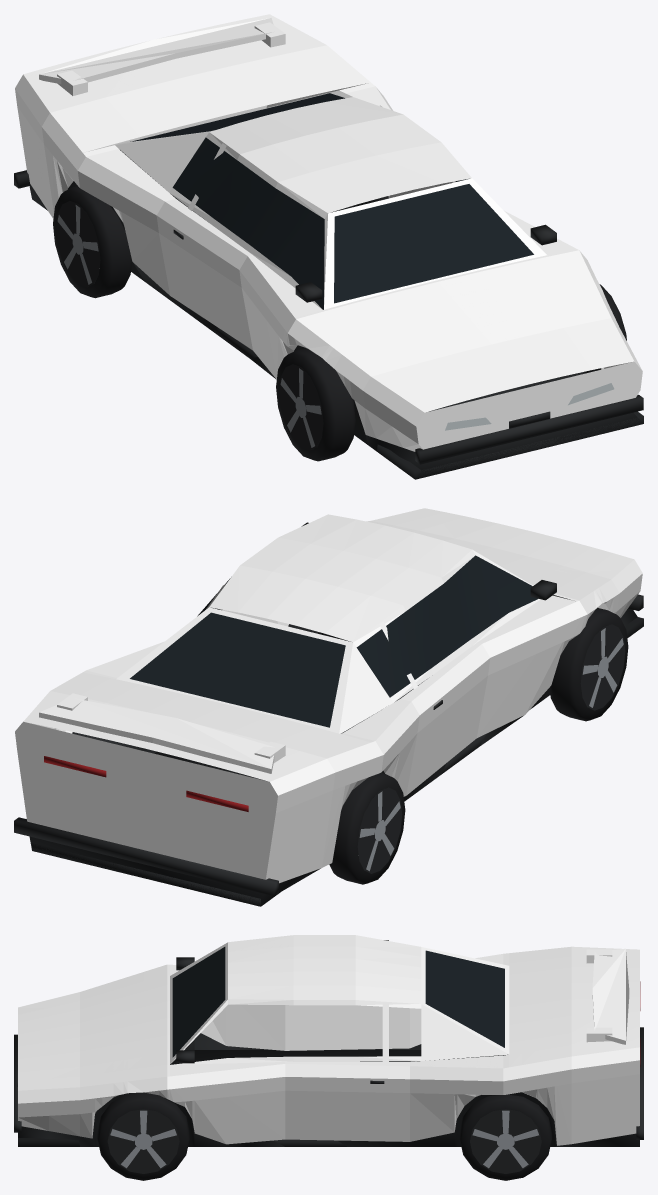
Rendered from corsalto_malva.glb.
3 views of the same model, one above another, from view 1: azimuth 30°, elevation 25°; view 2: azimuth 150°, elevation 25°; view 3: azimuth 270°, elevation 25° (orthographic). The views are drawn at different scales.
Visible parts, largest first — view 1: Body_Paint, Body_Details, Mount_FrontLeft_Wheel_Details, Mount_RearLeft_Wheel_Details; view 2: Body_Paint, Body_Details, Mount_FrontLeft_Wheel_Details, Mount_RearLeft_Wheel_Details; view 3: Body_Paint, Body_Details, Mount_FrontRight_Wheel_Details, Mount_RearRight_Wheel_Details.
Boxes of the visible parts, <box> form: Body_Paint: <box>15,14,642,451</box>; Body_Details: <box>14,93,643,479</box>; Mount_FrontLeft_Wheel_Details: <box>276,348,355,461</box>; Mount_RearLeft_Wheel_Details: <box>53,186,132,298</box>; Body_Paint: <box>15,508,642,883</box>; Body_Details: <box>14,522,643,906</box>; Mount_FrontLeft_Wheel_Details: <box>549,608,628,721</box>; Mount_RearLeft_Wheel_Details: <box>329,772,405,884</box>; Body_Paint: <box>18,935,639,1145</box>; Body_Details: <box>14,947,643,1146</box>; Mount_FrontRight_Wheel_Details: <box>97,1092,189,1180</box>; Mount_RearRight_Wheel_Details: <box>459,1094,551,1180</box>.
Size of the model in its own units: 2.02 by 1.23 by 4.43.
Materials: 2 (1 with a texture image).
